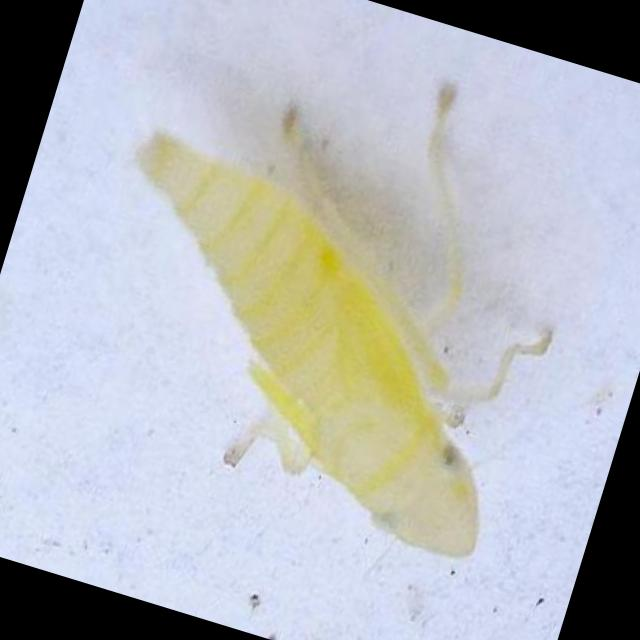green-leafhopper: (137, 85, 555, 560)
